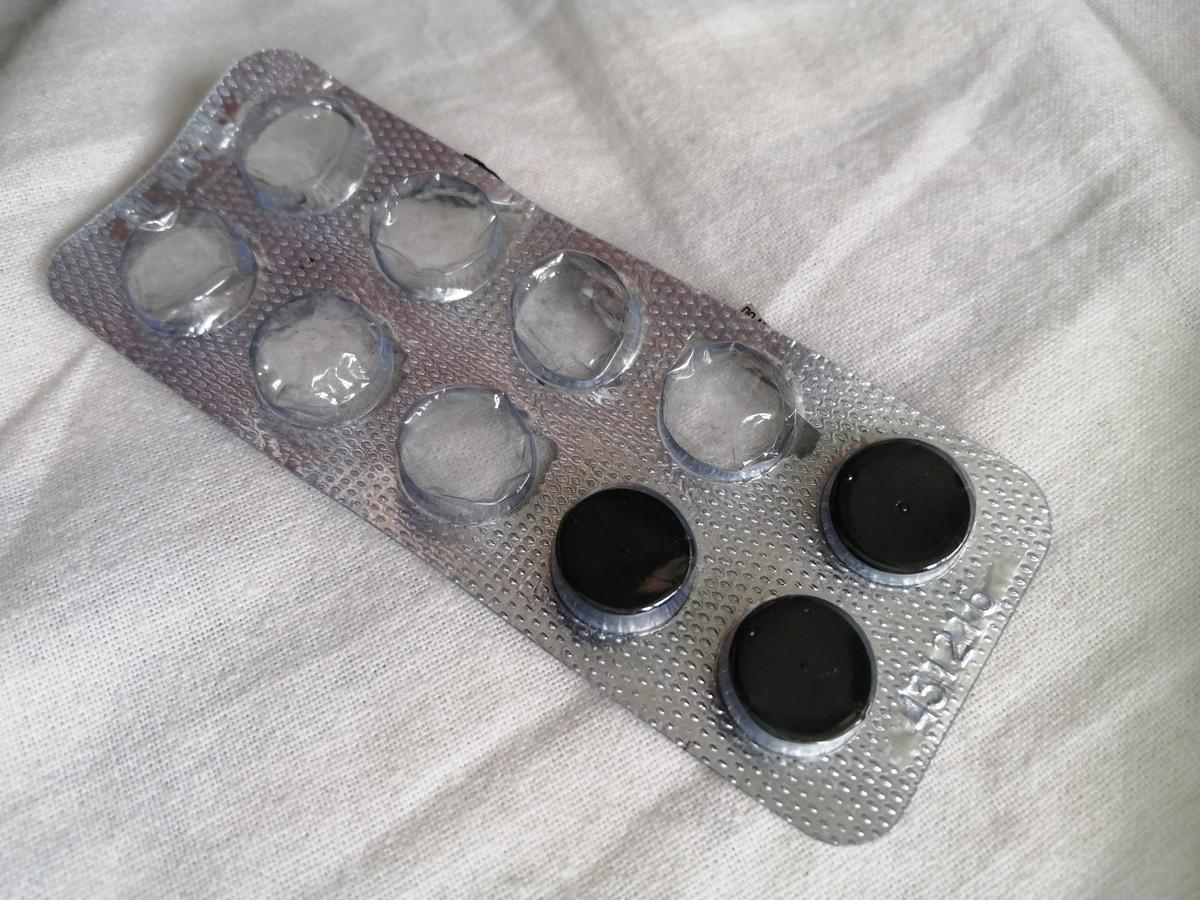tablet: (714, 591, 879, 759), (550, 477, 702, 639), (823, 434, 974, 591)
